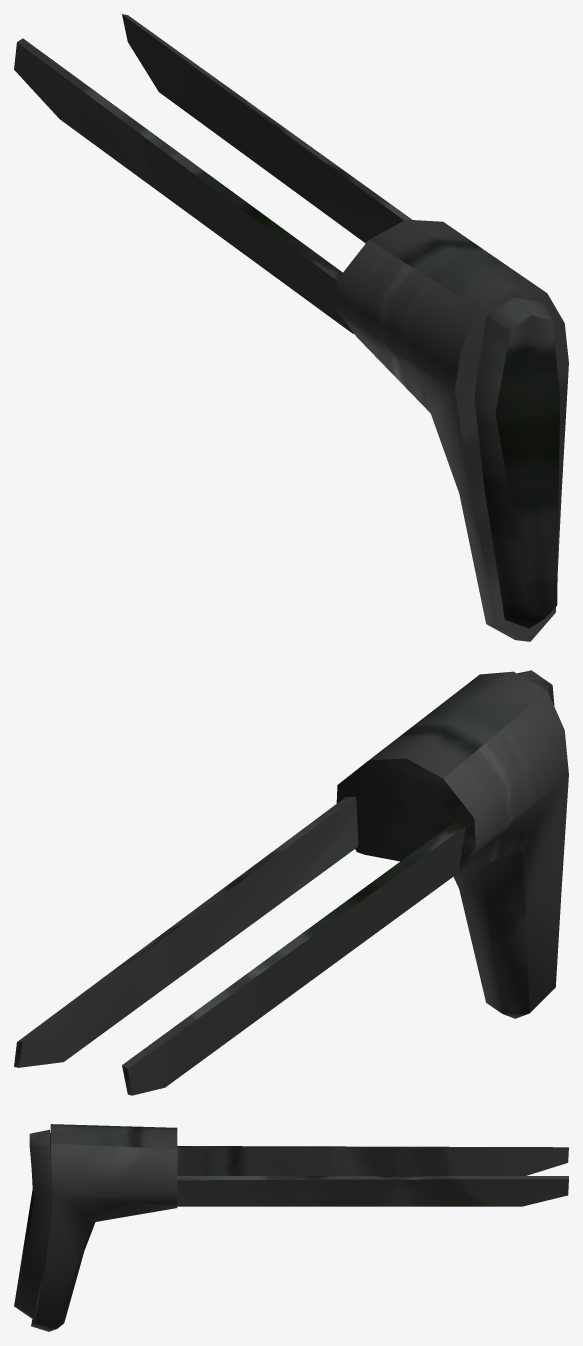
Rendered from MP5_Stock_Extended.fbx.
3 renders of one model, top to bottom at view 1: azimuth 30°, elevation 25°; view 2: azimuth 150°, elevation 25°; view 3: azimuth 270°, elevation 25°, orthographic. The views are drawn at different scales.
Parts seen in each view (by area): view 1: MP5_Stock; view 2: MP5_Stock; view 3: MP5_Stock.
Boxes of the visible parts, x1=… form: MP5_Stock: x1=14, y1=14, x2=568, y2=641; MP5_Stock: x1=14, y1=670, x2=568, y2=1095; MP5_Stock: x1=14, y1=1124, x2=568, y2=1331.
Bounding box in the file's own units: 0.0295 × 0.173 × 0.0704.
